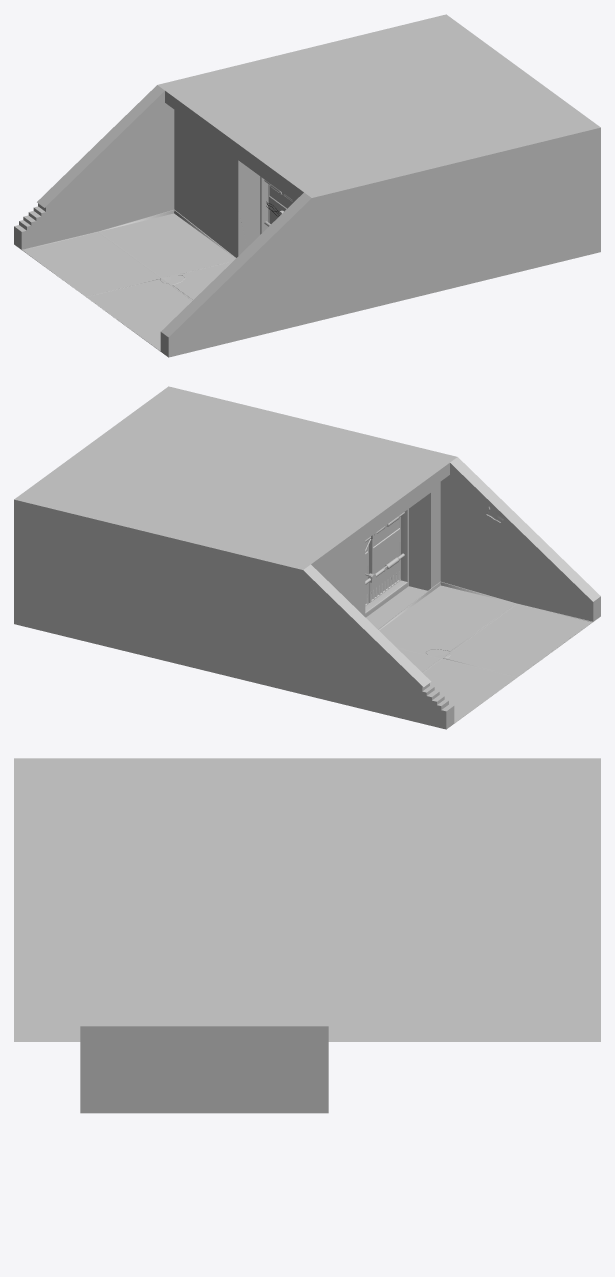
Rendered from bunker.fbx.
The picture shows the model from 3 angles, top to bottom: view 1: azimuth 30°, elevation 25°; view 2: azimuth 150°, elevation 25°; view 3: azimuth 270°, elevation 25°; orthographic projection. The views are drawn at different scales.
Parts seen in each view (by area): view 1: Box015, Puerta; view 2: Box015, Puerta; view 3: Box015.
Boxes of the visible parts, x1=… form: Box015: x1=14, y1=14, x2=600, y2=357; Puerta: x1=260, y1=176, x2=292, y2=234; Box015: x1=14, y1=386, x2=600, y2=729; Puerta: x1=365, y1=509, x2=408, y2=614; Box015: x1=14, y1=758, x2=600, y2=1113.
Size of the model in its own units: 1358 by 374 by 841.
